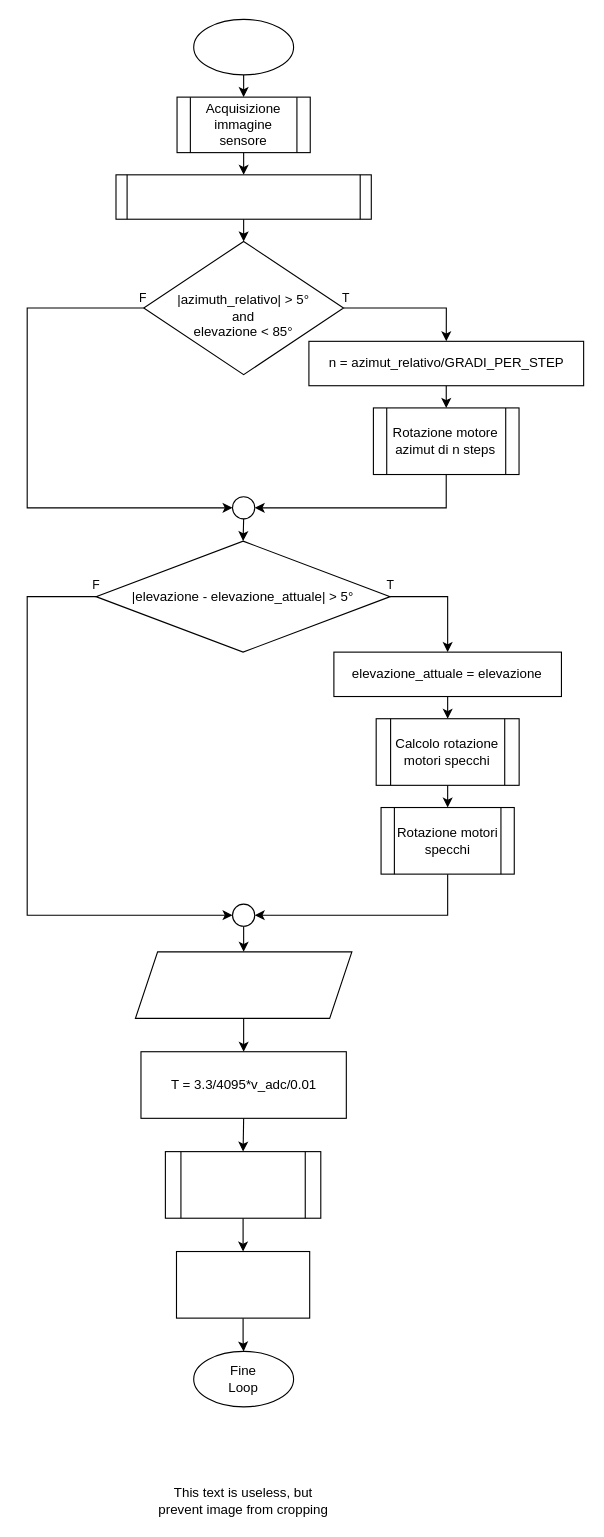
Image size: 604x1537. Some labels were removed from this diagram. Each missing label, with the box of its shape:
Delay 30 s: (175, 1250, 310, 1318)
Elaborazione immagine e calcolo coordinate relative del sole: (115, 174, 371, 219)
Inizio Loop: (193, 18, 294, 75)
Invio temperatura T al server: (164, 1151, 321, 1218)
Lettura ADC GPIO27 (termocoppia): (134, 951, 352, 1018)
